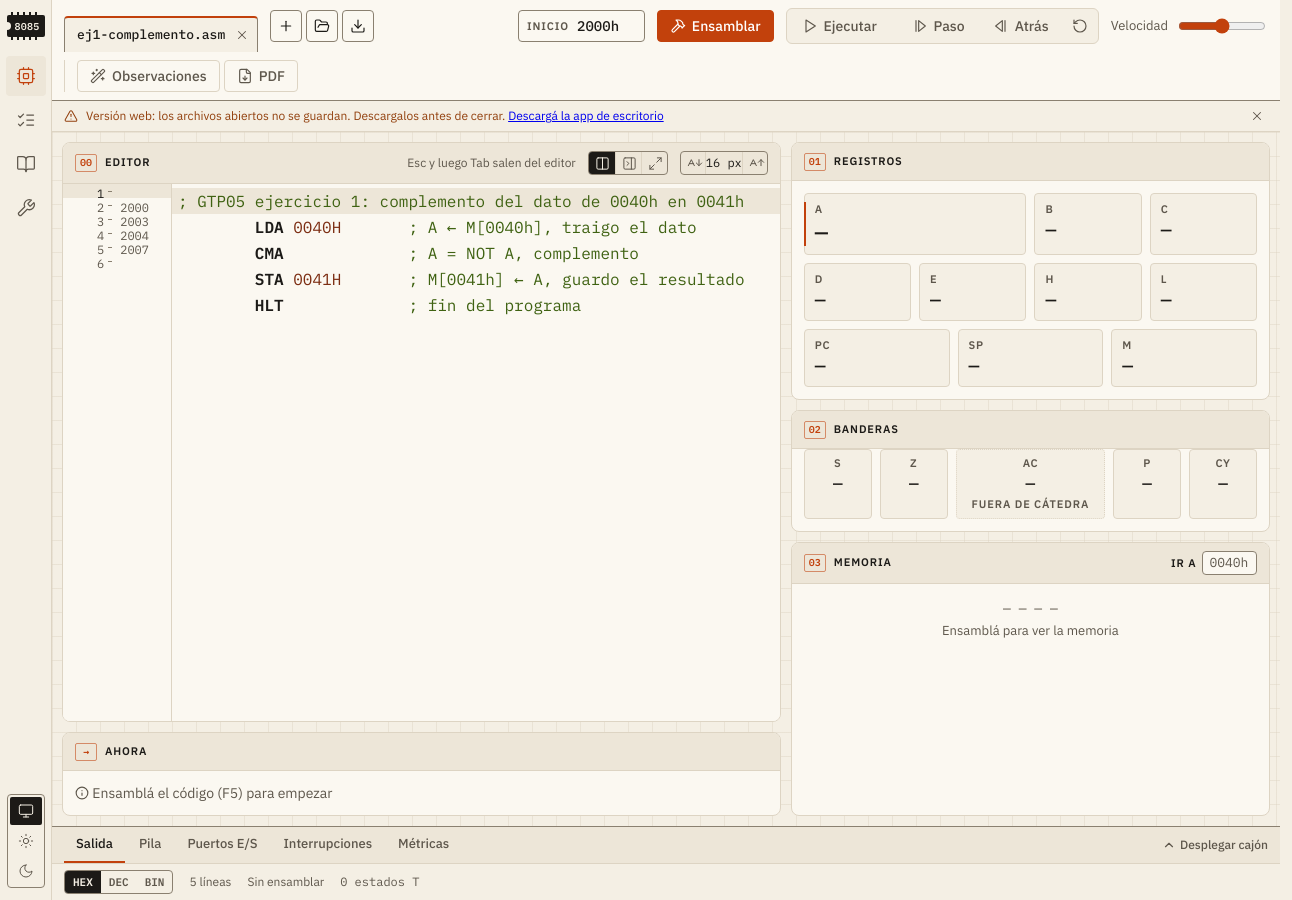
Test case: App: barra de herramientas y atajos › estados de los botones: Ejecutar deshabilitado sin ensamblar; Atrás sin historial
Check: the button "Ejecutar" is disabled, box [789,11,897,41]
Check: the button "Paso" is disabled, box [899,11,978,41]
Click the button "Ensamblar".
click(715, 26)  # box [657,10,774,42]
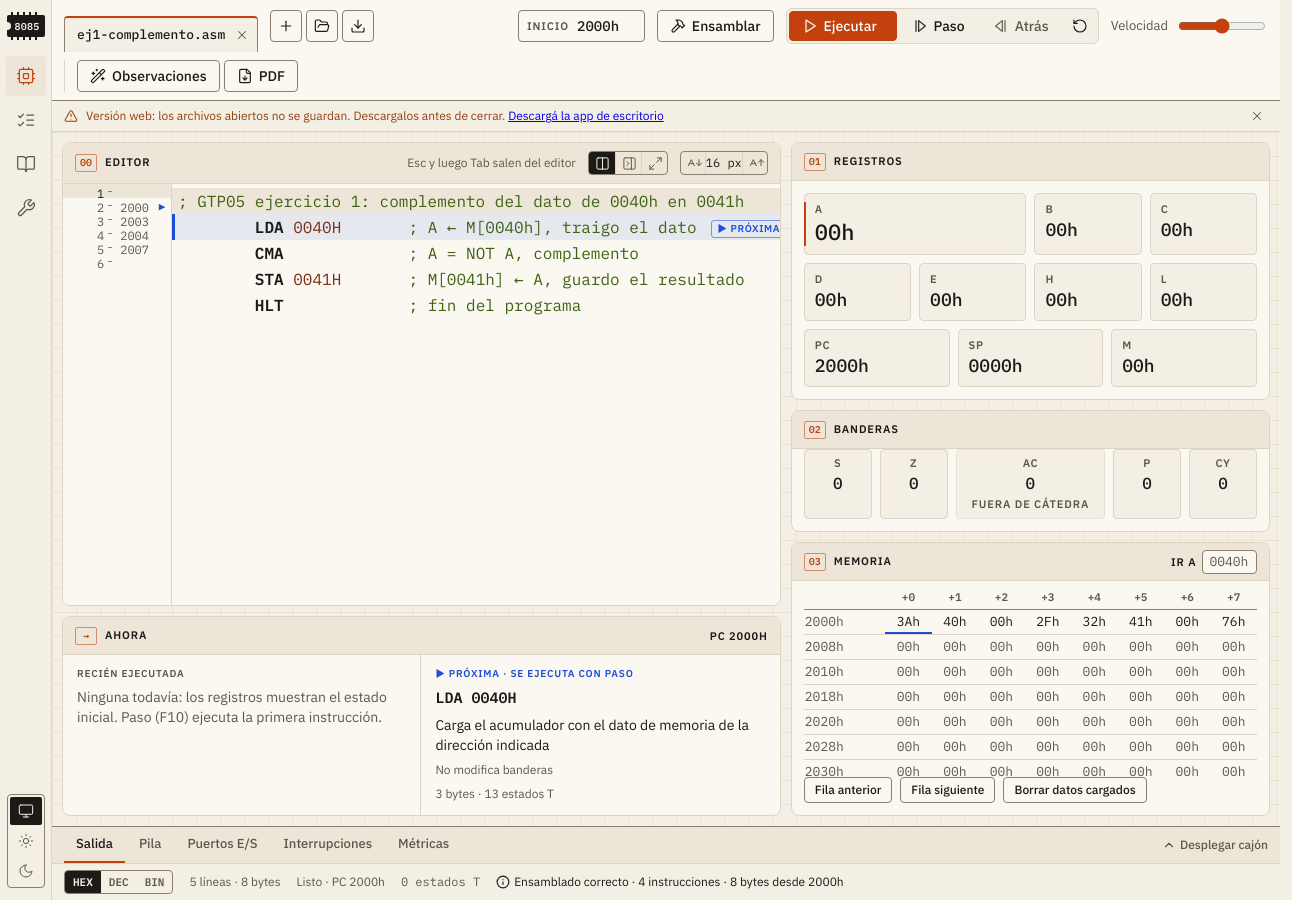
Check: the button "Atrás" is disabled, box [980,11,1062,41]
Check: the button "Ejecutar" is enabled, box [789,11,897,41]
Click the button "Paso".
click(938, 26)  # box [899,11,978,41]
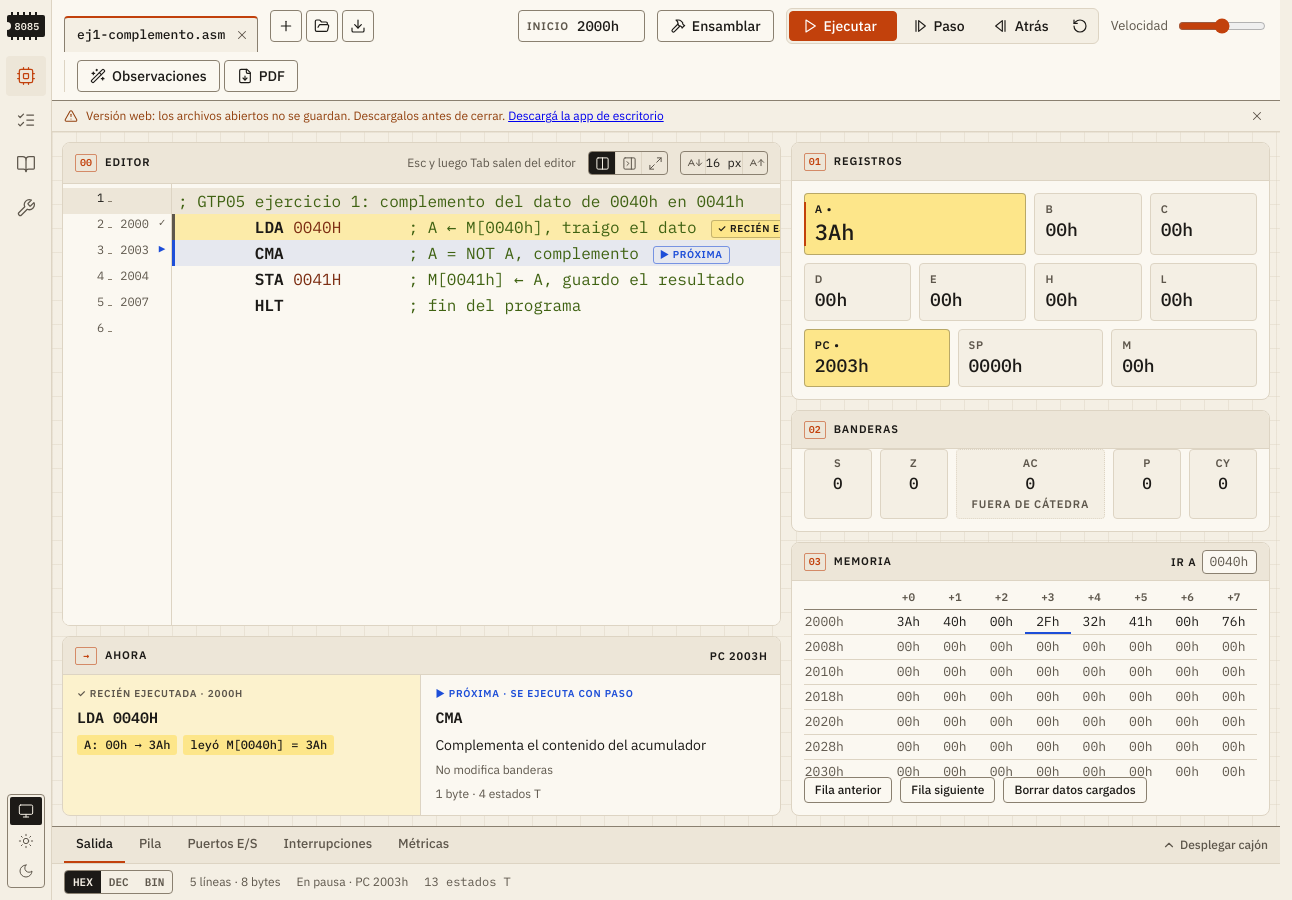
Check: the button "Atrás" is enabled, box [980,11,1062,41]
